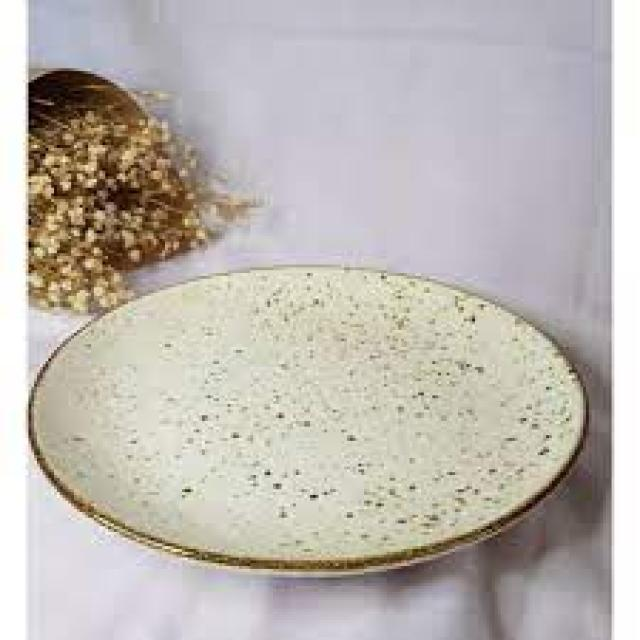Plate: (27, 254, 605, 596)
